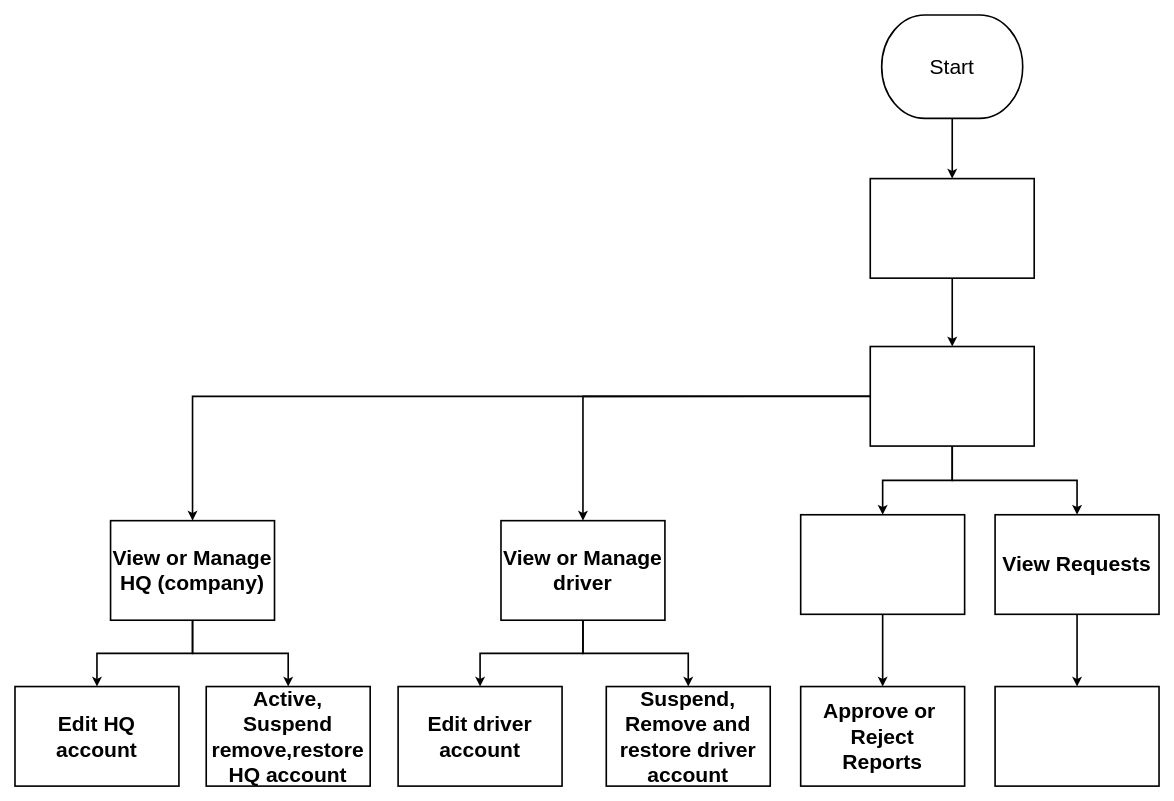
This 1174x801 diagram has some shape labels left out. The box of each missing label's shape, as (x1, y1, x2, y2) in pixels:
Dashboard: (869, 345, 1035, 446)
Download request file or Delete: (994, 685, 1159, 787)
Login: (869, 177, 1035, 279)
View Reports: (799, 514, 965, 615)
